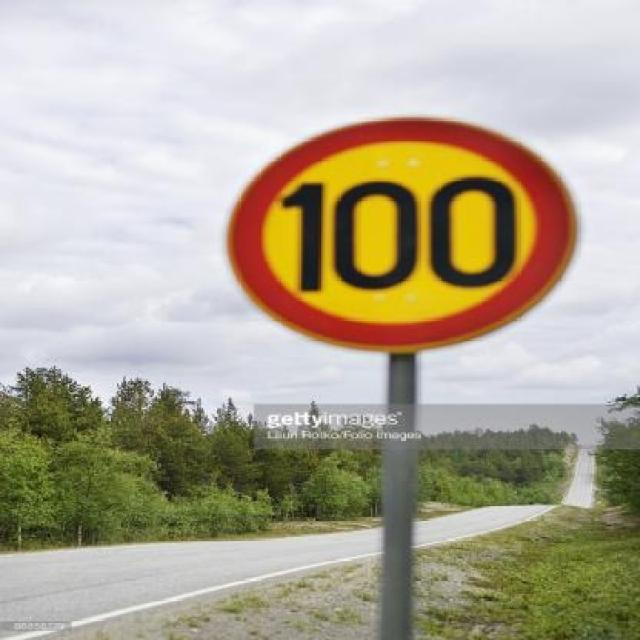forb_speed_over_100: (240, 117, 571, 343)
